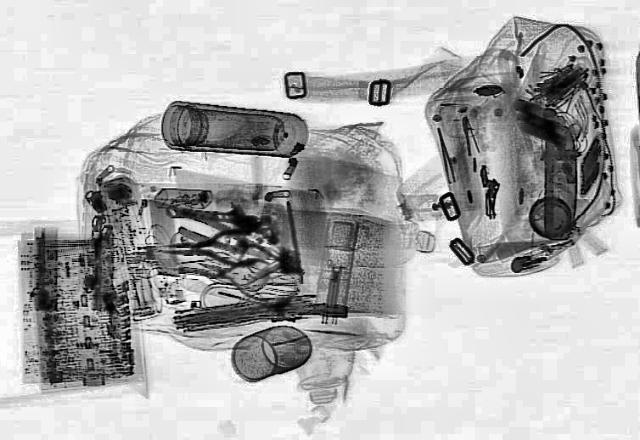Pliers: (158, 228, 252, 264)
Wrench: (160, 200, 260, 230)
